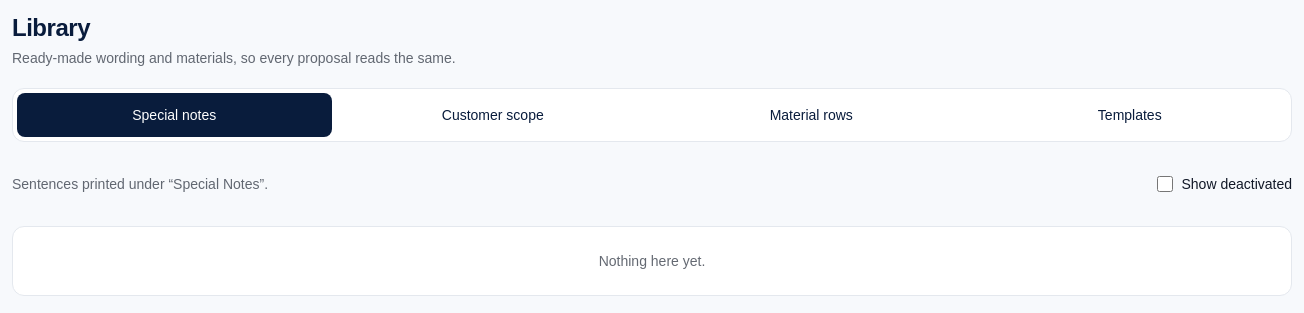
Test: Library › a template offers “New proposal from this”; Management only reads
Click the tab with test id "library-tab-template" at (1130, 115), box 972,93 -> 1287,137
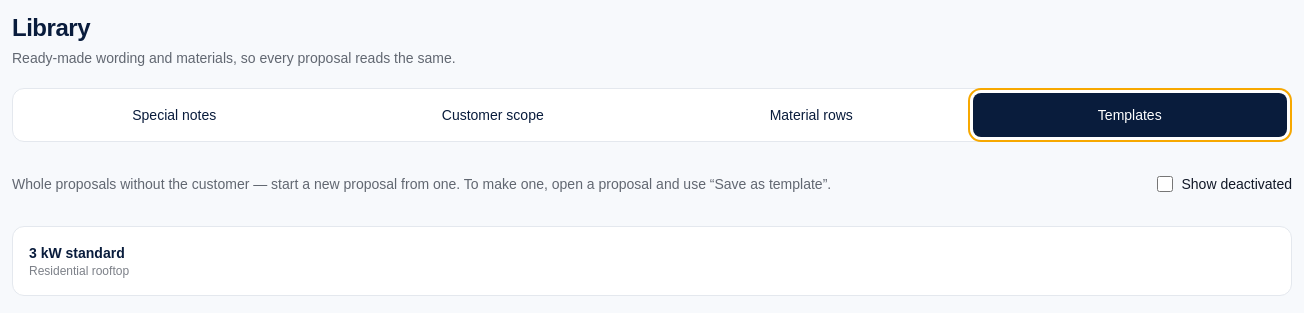
Now the text "3 kW standard" is shown, box 29,243 -> 129,263
